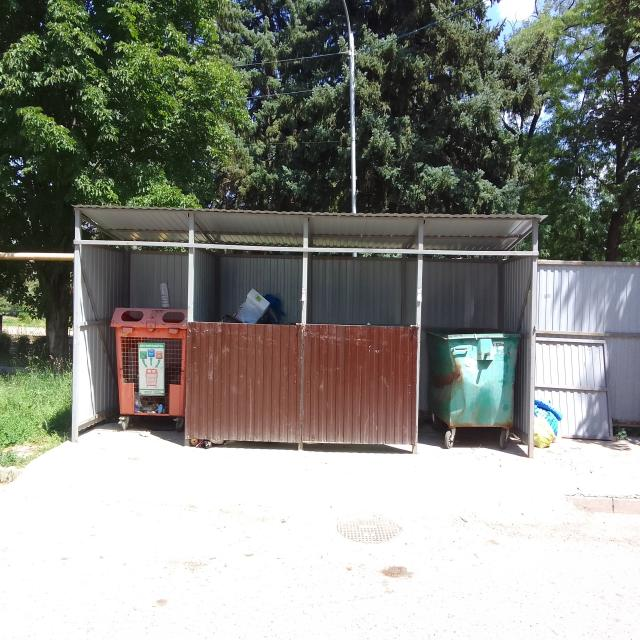bin: (431, 327, 521, 451), (106, 293, 183, 431)
trash: (533, 390, 563, 458), (232, 285, 280, 322)
